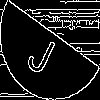J: (25, 25, 62, 78)
